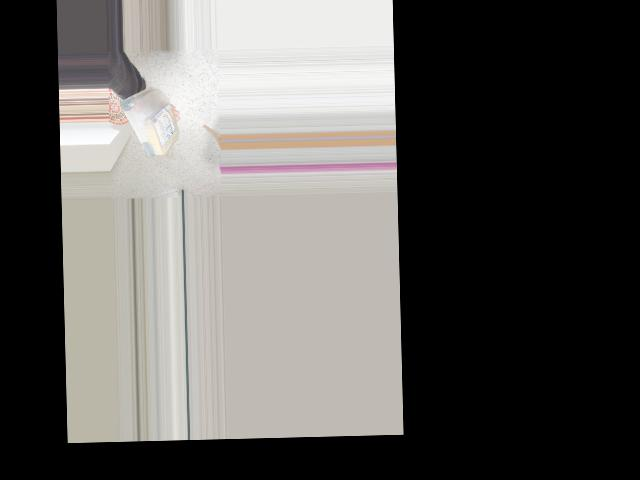cheese: (120, 75, 181, 161)
